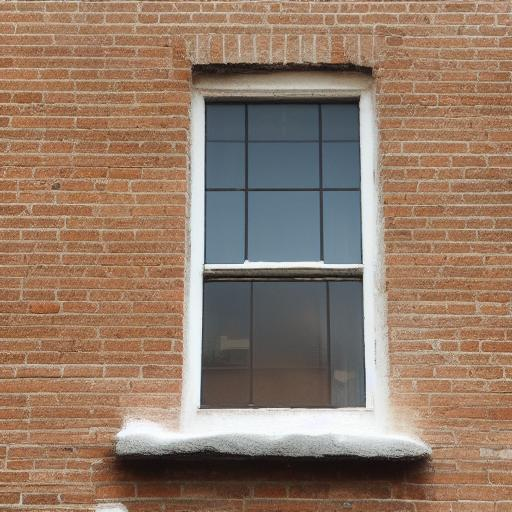Window: (120, 33, 436, 471)
